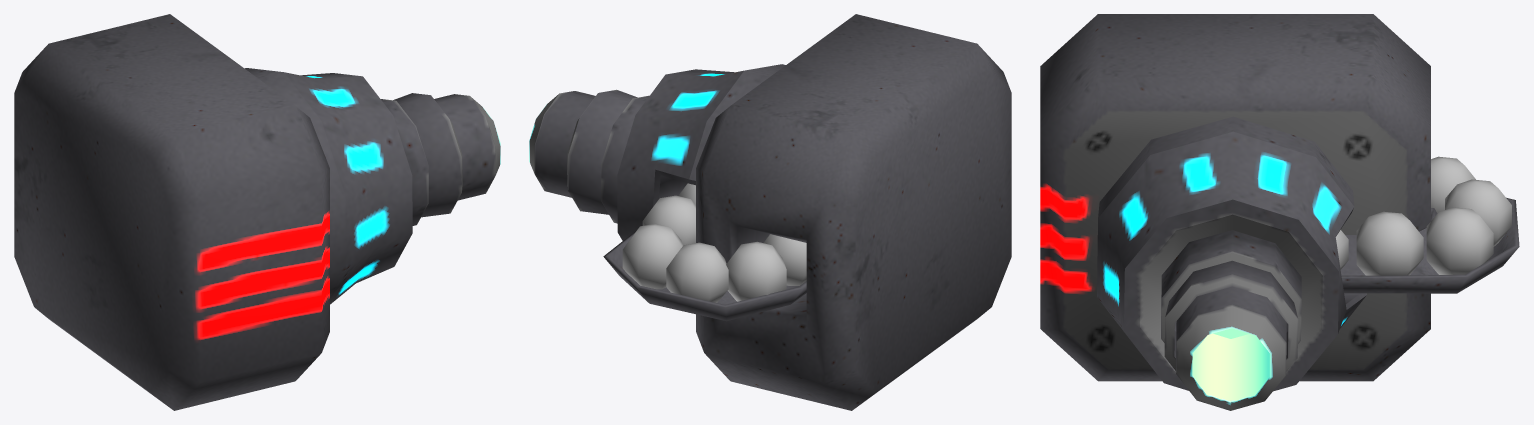
Rendered from cañon.glb.
3 views of the same model, side by side, from view 1: azimuth 30°, elevation 25°; view 2: azimuth 150°, elevation 25°; view 3: azimuth 270°, elevation 25° (orthographic). The views are drawn at different scales.
Parts seen in each view (by area): view 1: Cube, Cylinder; view 2: Cube, Cylinder, Sphere.005, Cylinder.001; view 3: Cube, Cylinder, Sphere.005, Cylinder.001.
Part boxes in pixels (x1,y1,x2,y2): Cube: (14, 14, 329, 410); Cylinder: (245, 68, 500, 304); Cube: (696, 14, 1011, 410); Cylinder: (529, 64, 785, 240); Sphere.005: (622, 183, 806, 302); Cylinder.001: (603, 230, 806, 321); Cube: (1040, 14, 1430, 381); Cylinder: (1097, 116, 1366, 410); Sphere.005: (1335, 156, 1511, 275); Cylinder.001: (1340, 197, 1519, 293).
Size of the model in its own units: 8.51 by 5.76 by 8.28.
Materials: 1 (1 with a texture image).
